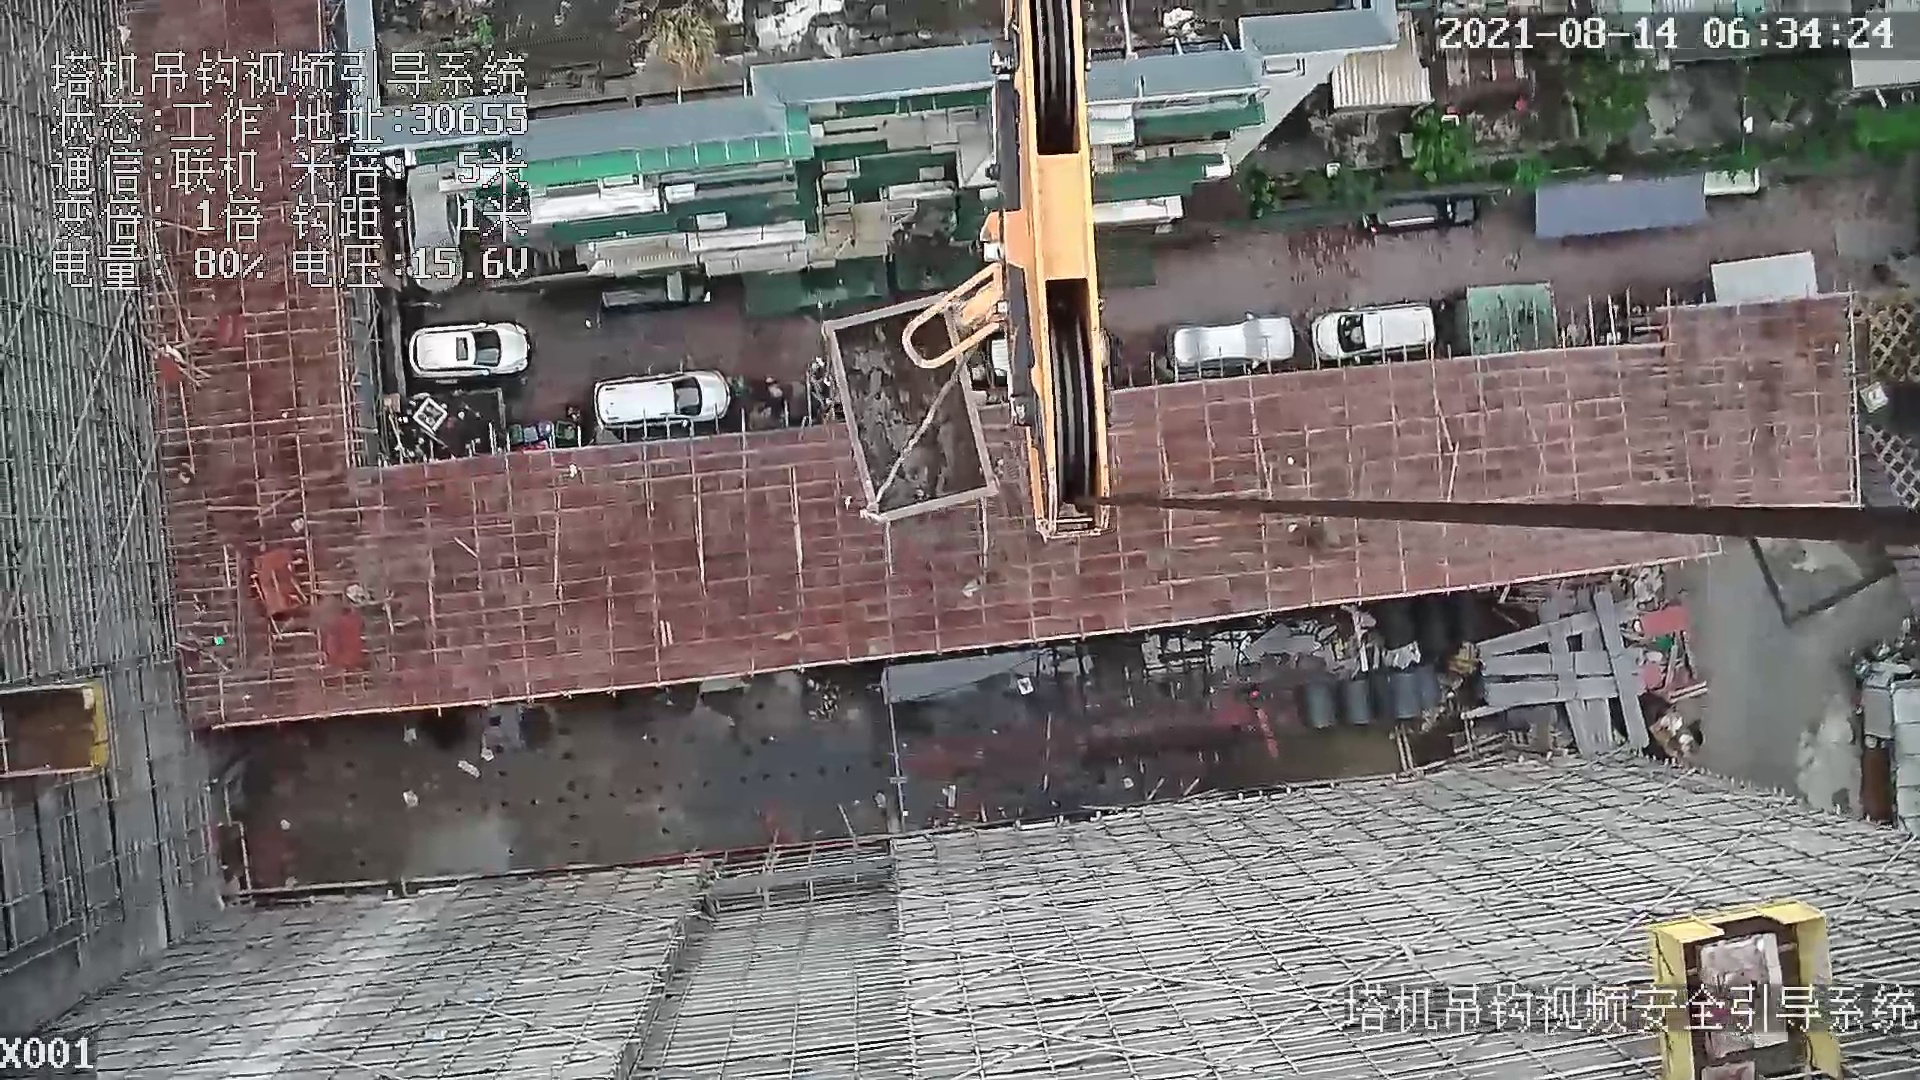hook: (905, 1, 1113, 545)
hopper: (818, 287, 1009, 545)
